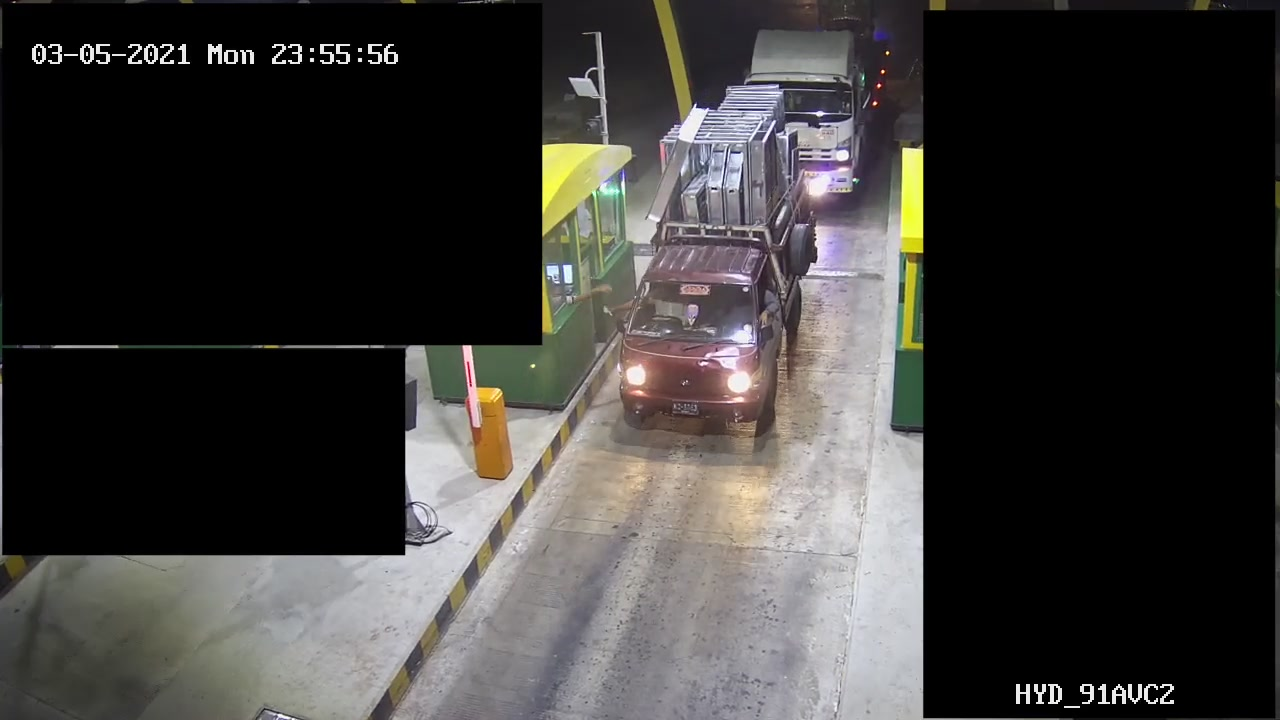F2: (615, 77, 800, 436)
